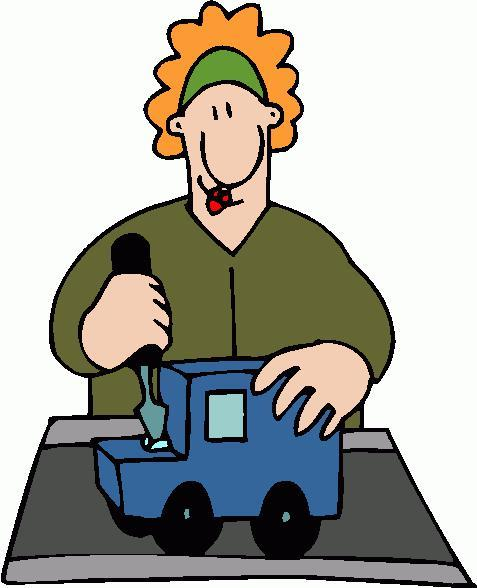car: (89, 360, 345, 560)
person: (36, 1, 398, 436)
